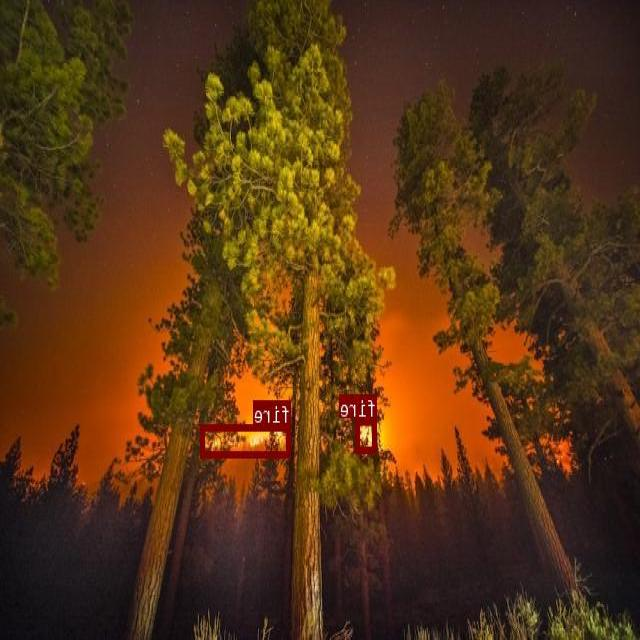fire: (201, 424, 291, 456), (356, 417, 377, 452)
